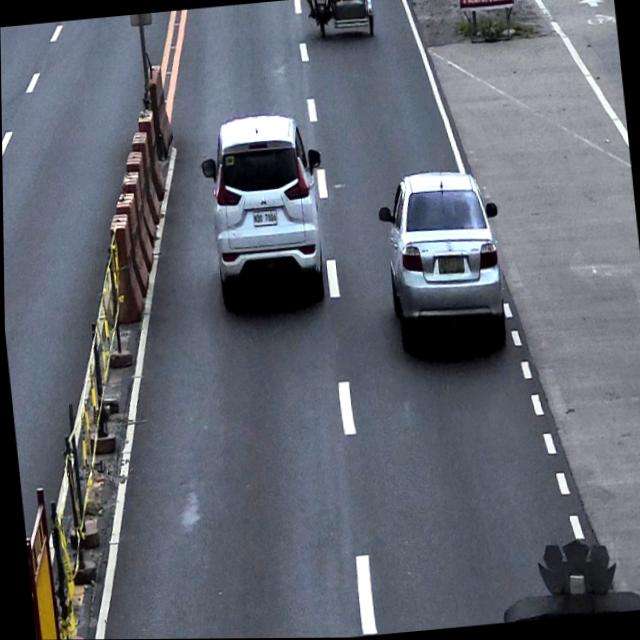Car: (195, 108, 334, 308), (373, 164, 510, 356)
License-Plate: (436, 252, 465, 277), (250, 207, 277, 228), (315, 0, 325, 5)
Tricycle: (305, 0, 376, 42)
